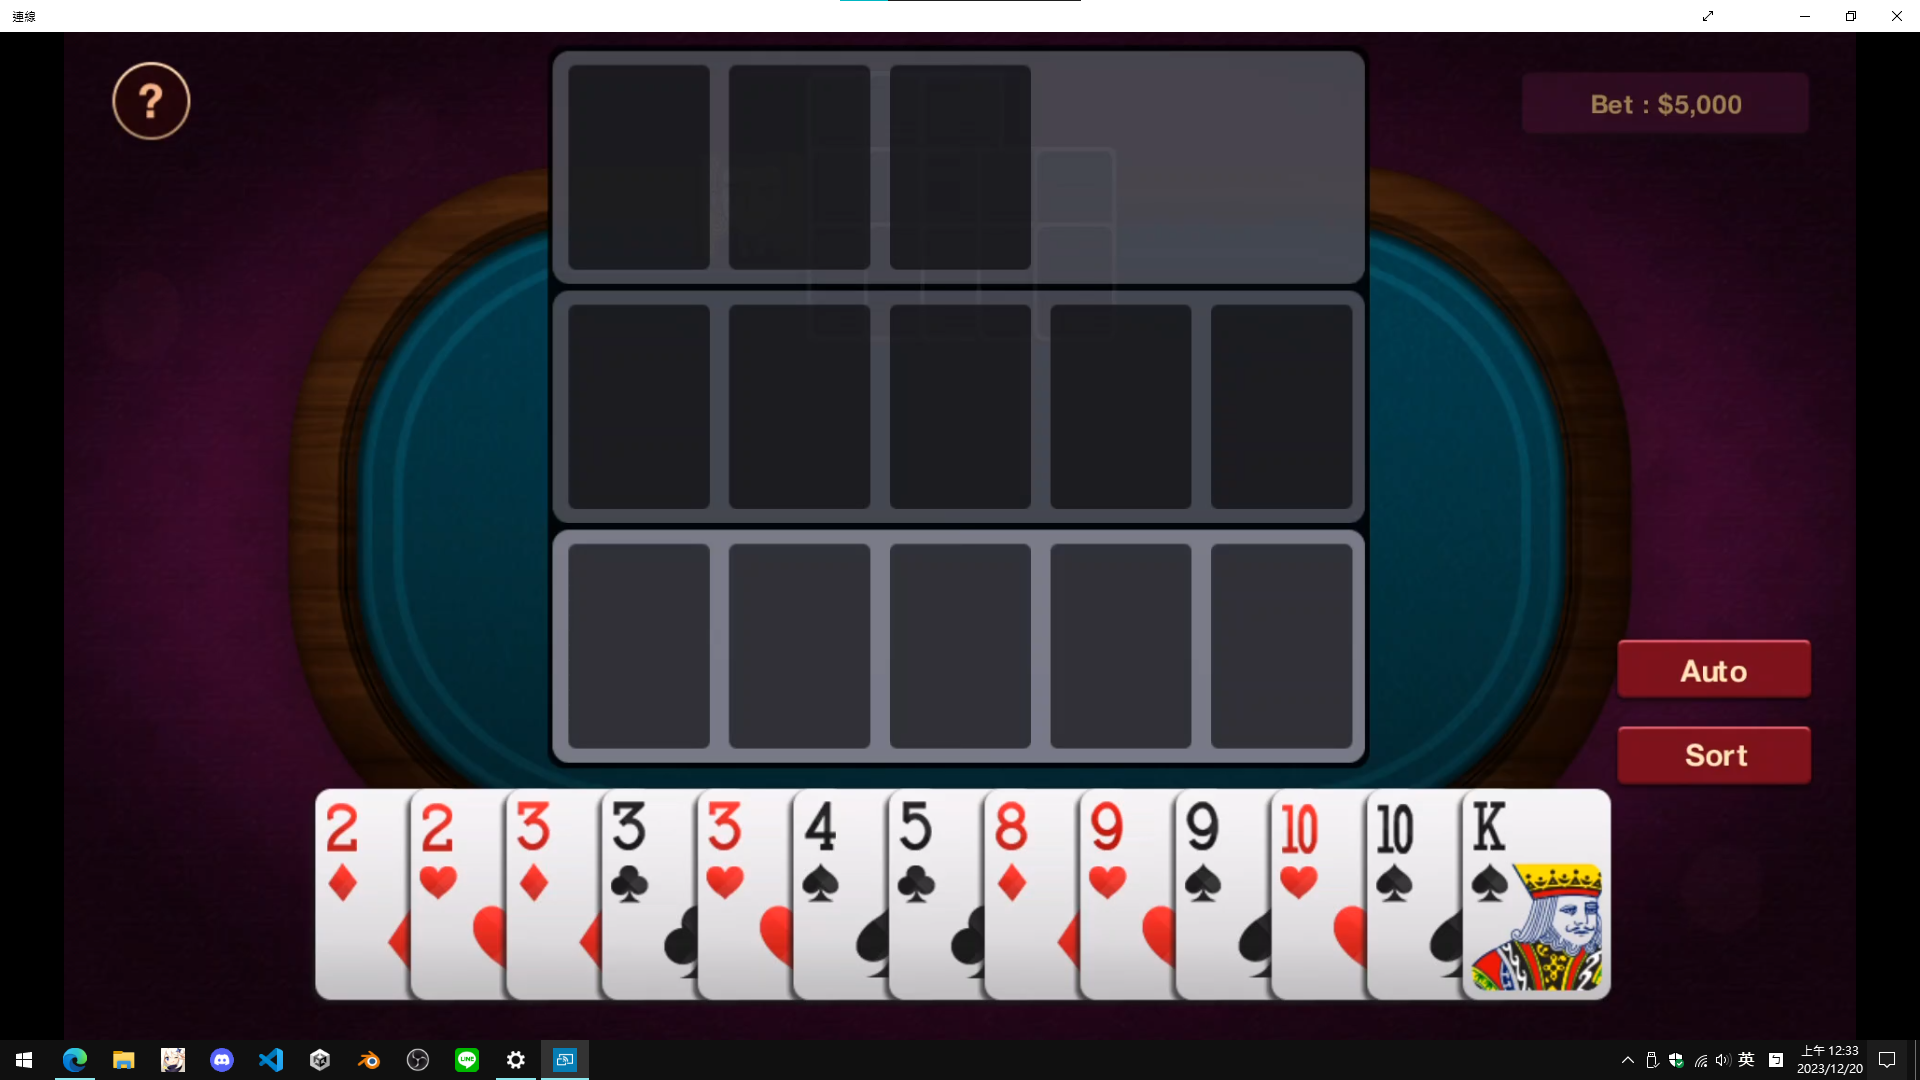10H: (1278, 799, 1323, 907)
10S: (1373, 802, 1418, 909)
2D: (320, 799, 365, 909)
2H: (418, 798, 460, 903)
3C: (608, 796, 653, 909)
3D: (513, 796, 554, 907)
3H: (703, 796, 749, 902)
4S: (800, 798, 843, 910)
5C: (894, 798, 940, 907)
8D: (992, 798, 1033, 906)
9H: (1087, 798, 1130, 902)
9S: (1182, 798, 1228, 910)
KS: (1466, 795, 1511, 911)
